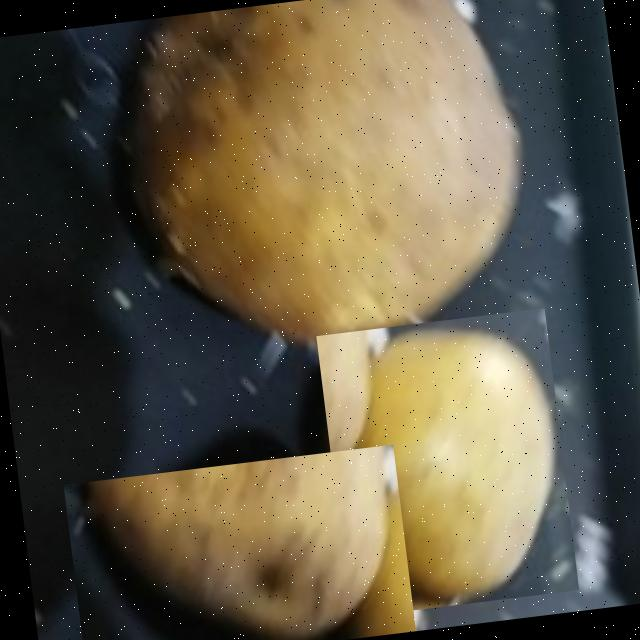Damaged potato: (105, 0, 546, 373), (62, 444, 414, 640)
Potato: (315, 308, 578, 618)
